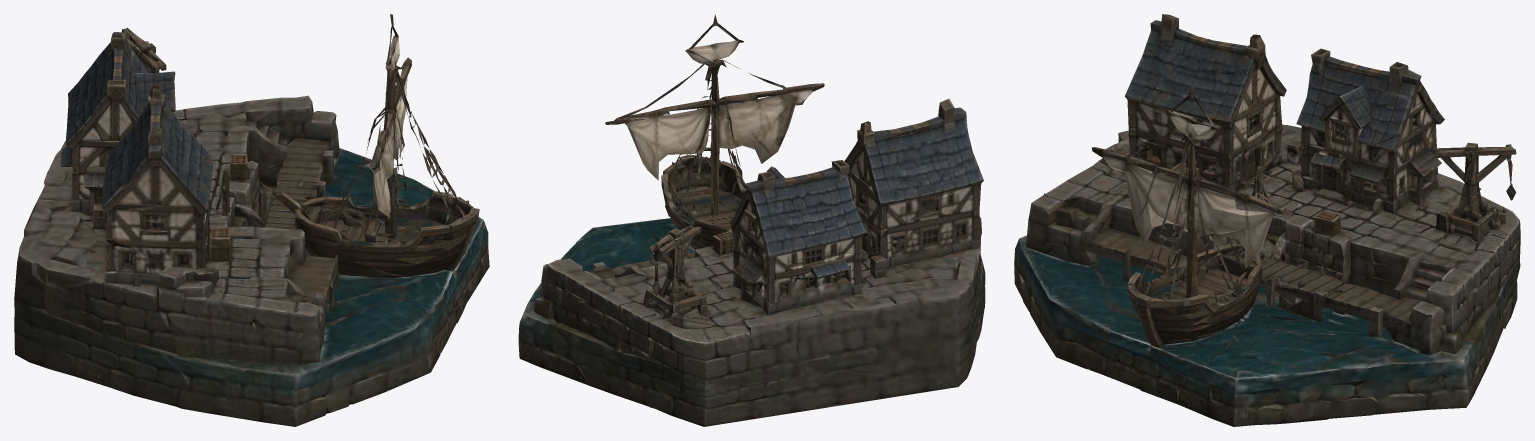
The model's file is port.glb.
3 views of the same model, side by side, from view 1: azimuth 30°, elevation 25°; view 2: azimuth 150°, elevation 25°; view 3: azimuth 270°, elevation 25° (orthographic). The views are drawn at different scales.
Size of the model in its own units: 2.04 by 1.31 by 2.09.
Materials: 1 (1 with a texture image).
